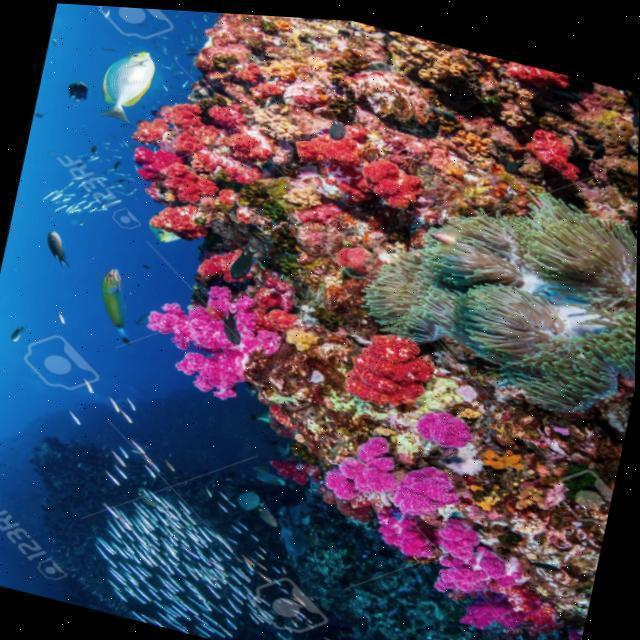Healthy Coral: (67, 3, 640, 640)
